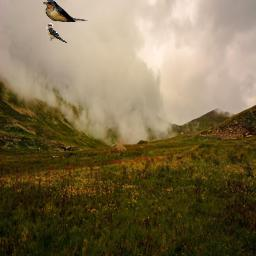Swallow: (43, 0, 88, 22), (46, 22, 69, 44)
